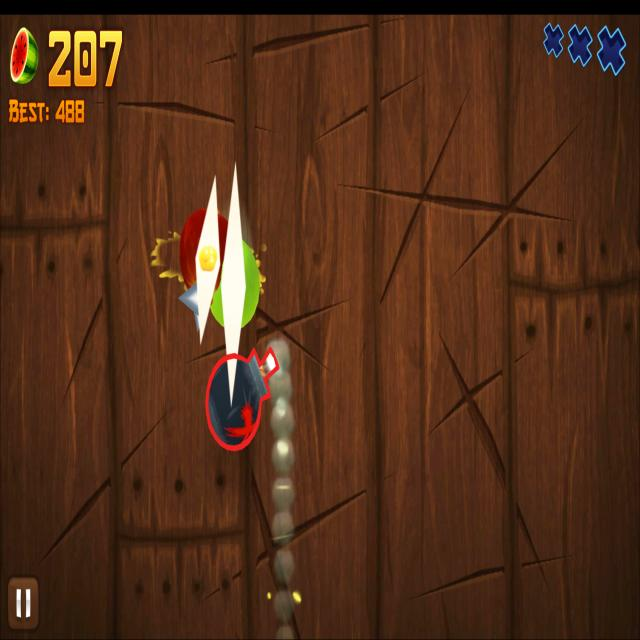fruit: (179, 208, 228, 304), (211, 240, 260, 329)
